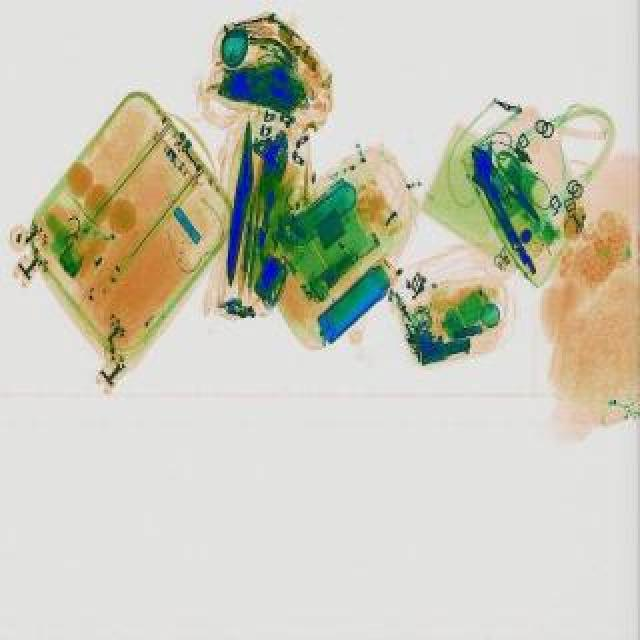scissors: (460, 146, 536, 258)
